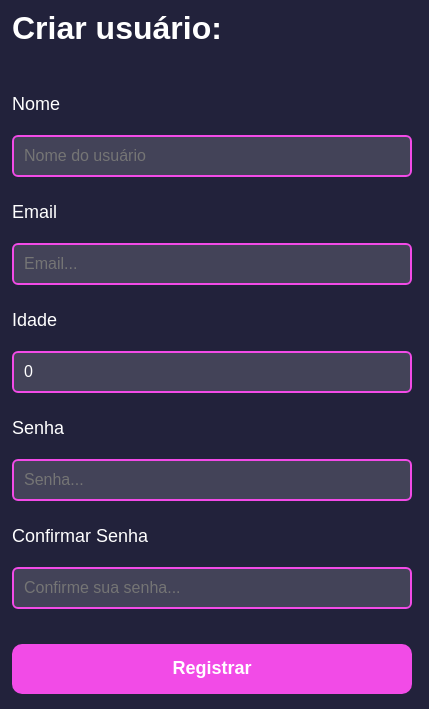
Test case: Componente RegisterForm › mostrar mensagem de erro para idade inválido
The width and height of the screenshot is (429, 709).
Replace the text in the number field with test id "idade-input" with "15" at (212, 372), box top-left (12, 351), bottom-right (412, 393)
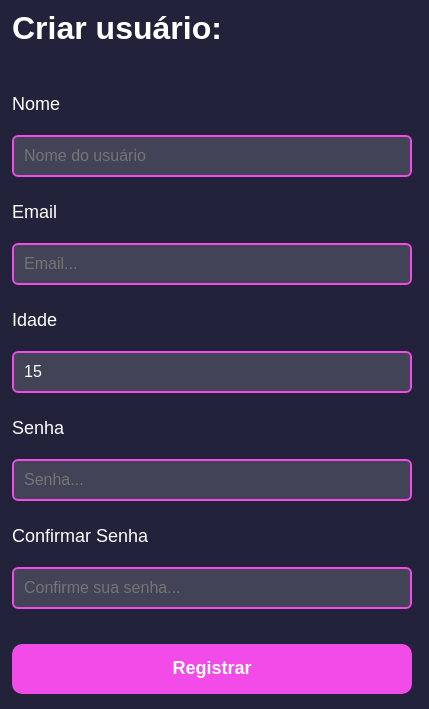
Click the button with test id "submit-button".
click(212, 669)  # box top-left (12, 644), bottom-right (412, 694)
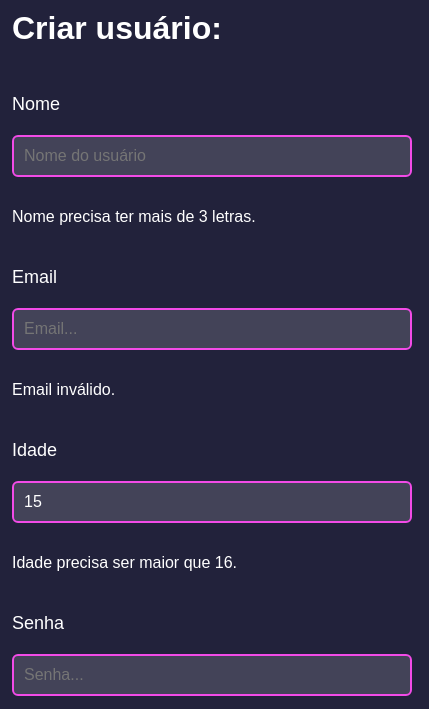
Expected: the text with test id "error-idade" reads "Idade precisa ser maior que 16.", top-left (12, 554), bottom-right (237, 571)
